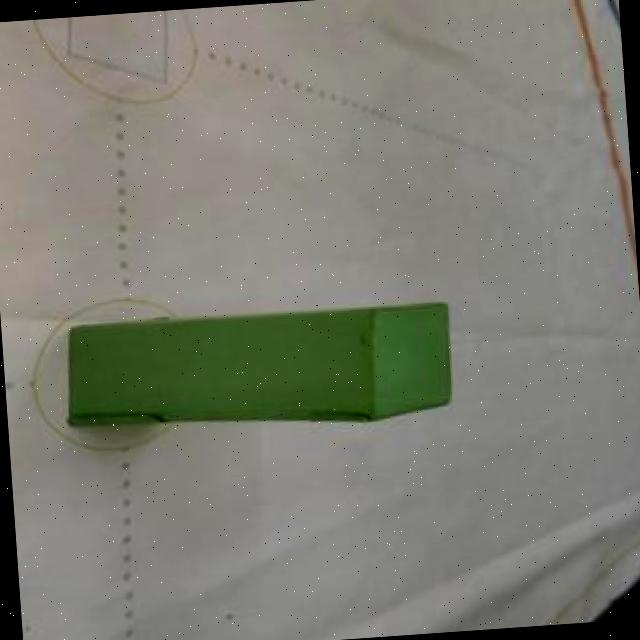greenbox: (59, 285, 460, 446)
